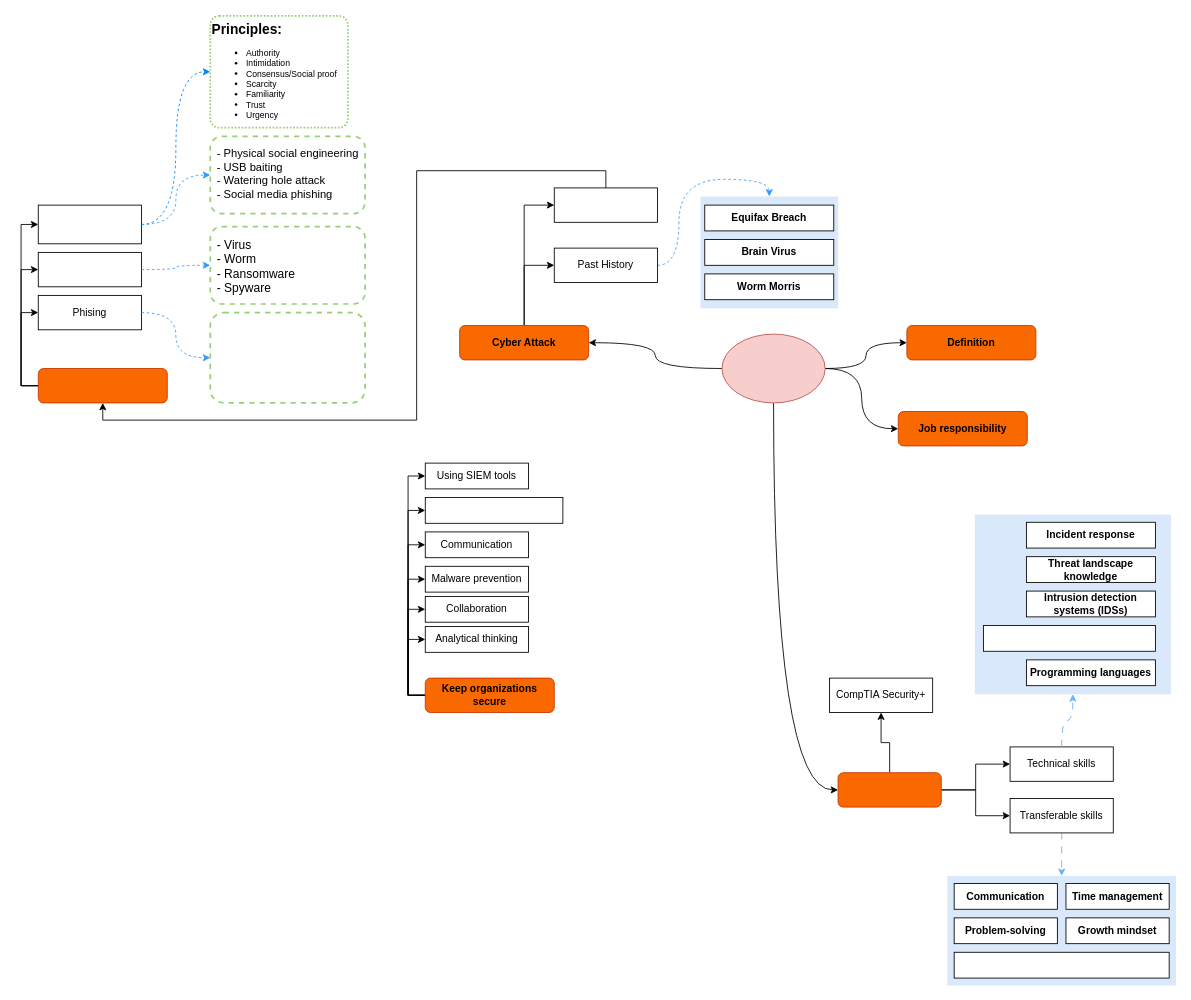
Some shapes in this 1191 by 1000 pixel diagram are drawn without their labels. Here are the shapes that lost their labels. From the top down, the centre of each, then its label:
the point at 89,224: Social engineering
the point at 605,204: Digital era
the point at 89,269: Malware
the point at 287,357: - Vishing - Business email compromise - Spear phishing - Whaling
the point at 773,368: Cybersecurity
the point at 102,385: Methods of Attack
the point at 493,510: Understanding programming languages
the point at 1069,638: Security information and event management (SIEM) tools
the point at 889,789: Core Skill
the point at 1061,964: Diverse perspectives
